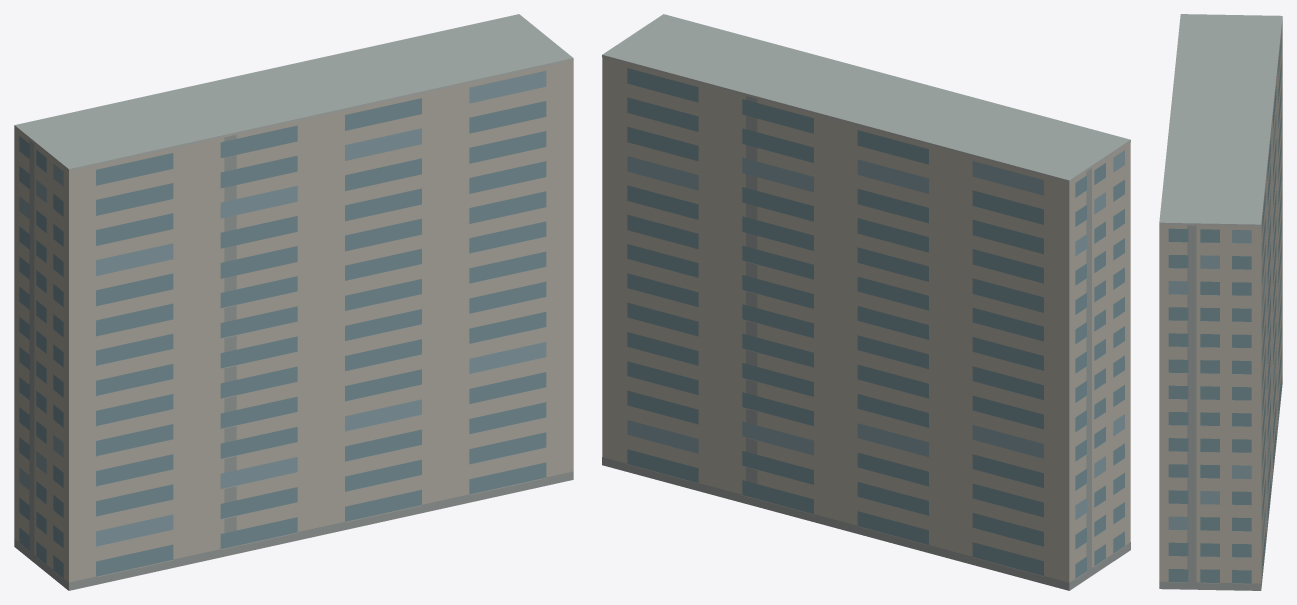
The model's file is residential-3efcfbbb-00b2-4183-9137-ad99a787d6e1.glb.
3 views of the same model, side by side, from view 1: azimuth 30°, elevation 25°; view 2: azimuth 150°, elevation 25°; view 3: azimuth 270°, elevation 25° (orthographic). The views are drawn at different scales.
Visible parts, largest first — view 1: residential-3efcfbbb-00b2-4183-9137-ad99a787d6e1.tmp; view 2: residential-3efcfbbb-00b2-4183-9137-ad99a787d6e1.tmp; view 3: residential-3efcfbbb-00b2-4183-9137-ad99a787d6e1.tmp.
Part boxes in pixels (bbox=[...]): residential-3efcfbbb-00b2-4183-9137-ad99a787d6e1.tmp: bbox=[14, 14, 573, 590]; residential-3efcfbbb-00b2-4183-9137-ad99a787d6e1.tmp: bbox=[602, 14, 1130, 590]; residential-3efcfbbb-00b2-4183-9137-ad99a787d6e1.tmp: bbox=[1159, 14, 1282, 590].
Bounding box in the file's own units: 49.32 × 40 × 12.22.
